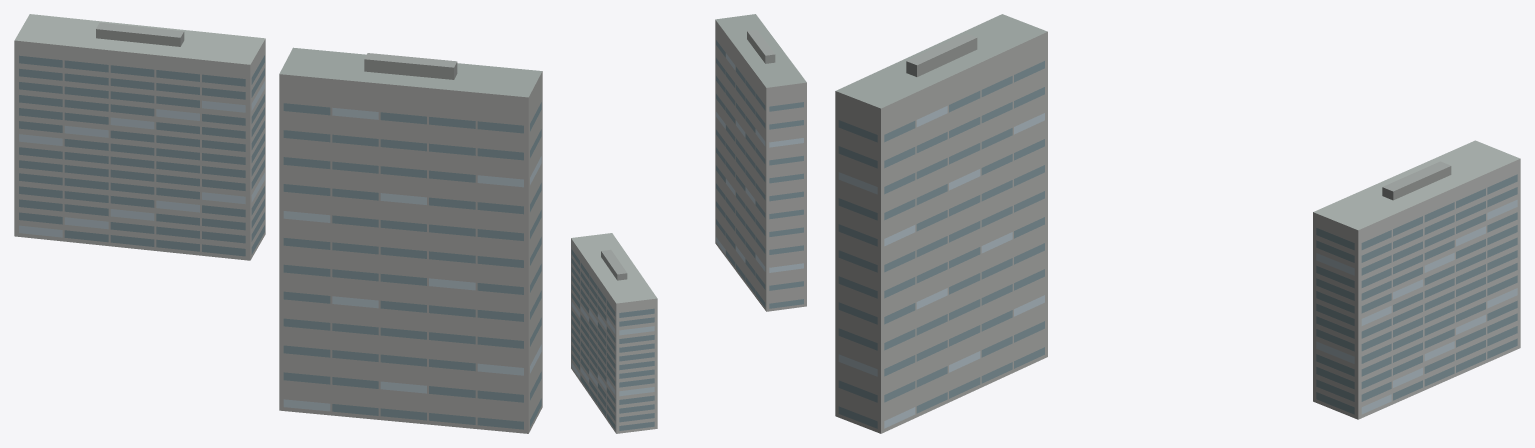
Rendered from apt-a13982103.glb.
3 views of the same model, side by side, from view 1: azimuth 30°, elevation 25°; view 2: azimuth 150°, elevation 25°; view 3: azimuth 270°, elevation 25° (orthographic). The views are drawn at different scales.
Parts seen in each view (by area): view 1: apt-a13982103; view 2: apt-a13982103; view 3: apt-a13982103.
Part boxes in pixels (left/top/right/bottom): apt-a13982103: left=14, top=14, right=542, bottom=433; apt-a13982103: left=571, top=14, right=806, bottom=433; apt-a13982103: left=835, top=14, right=1520, bottom=433.
Size of the model in its own units: 45.02 by 68 by 125.
